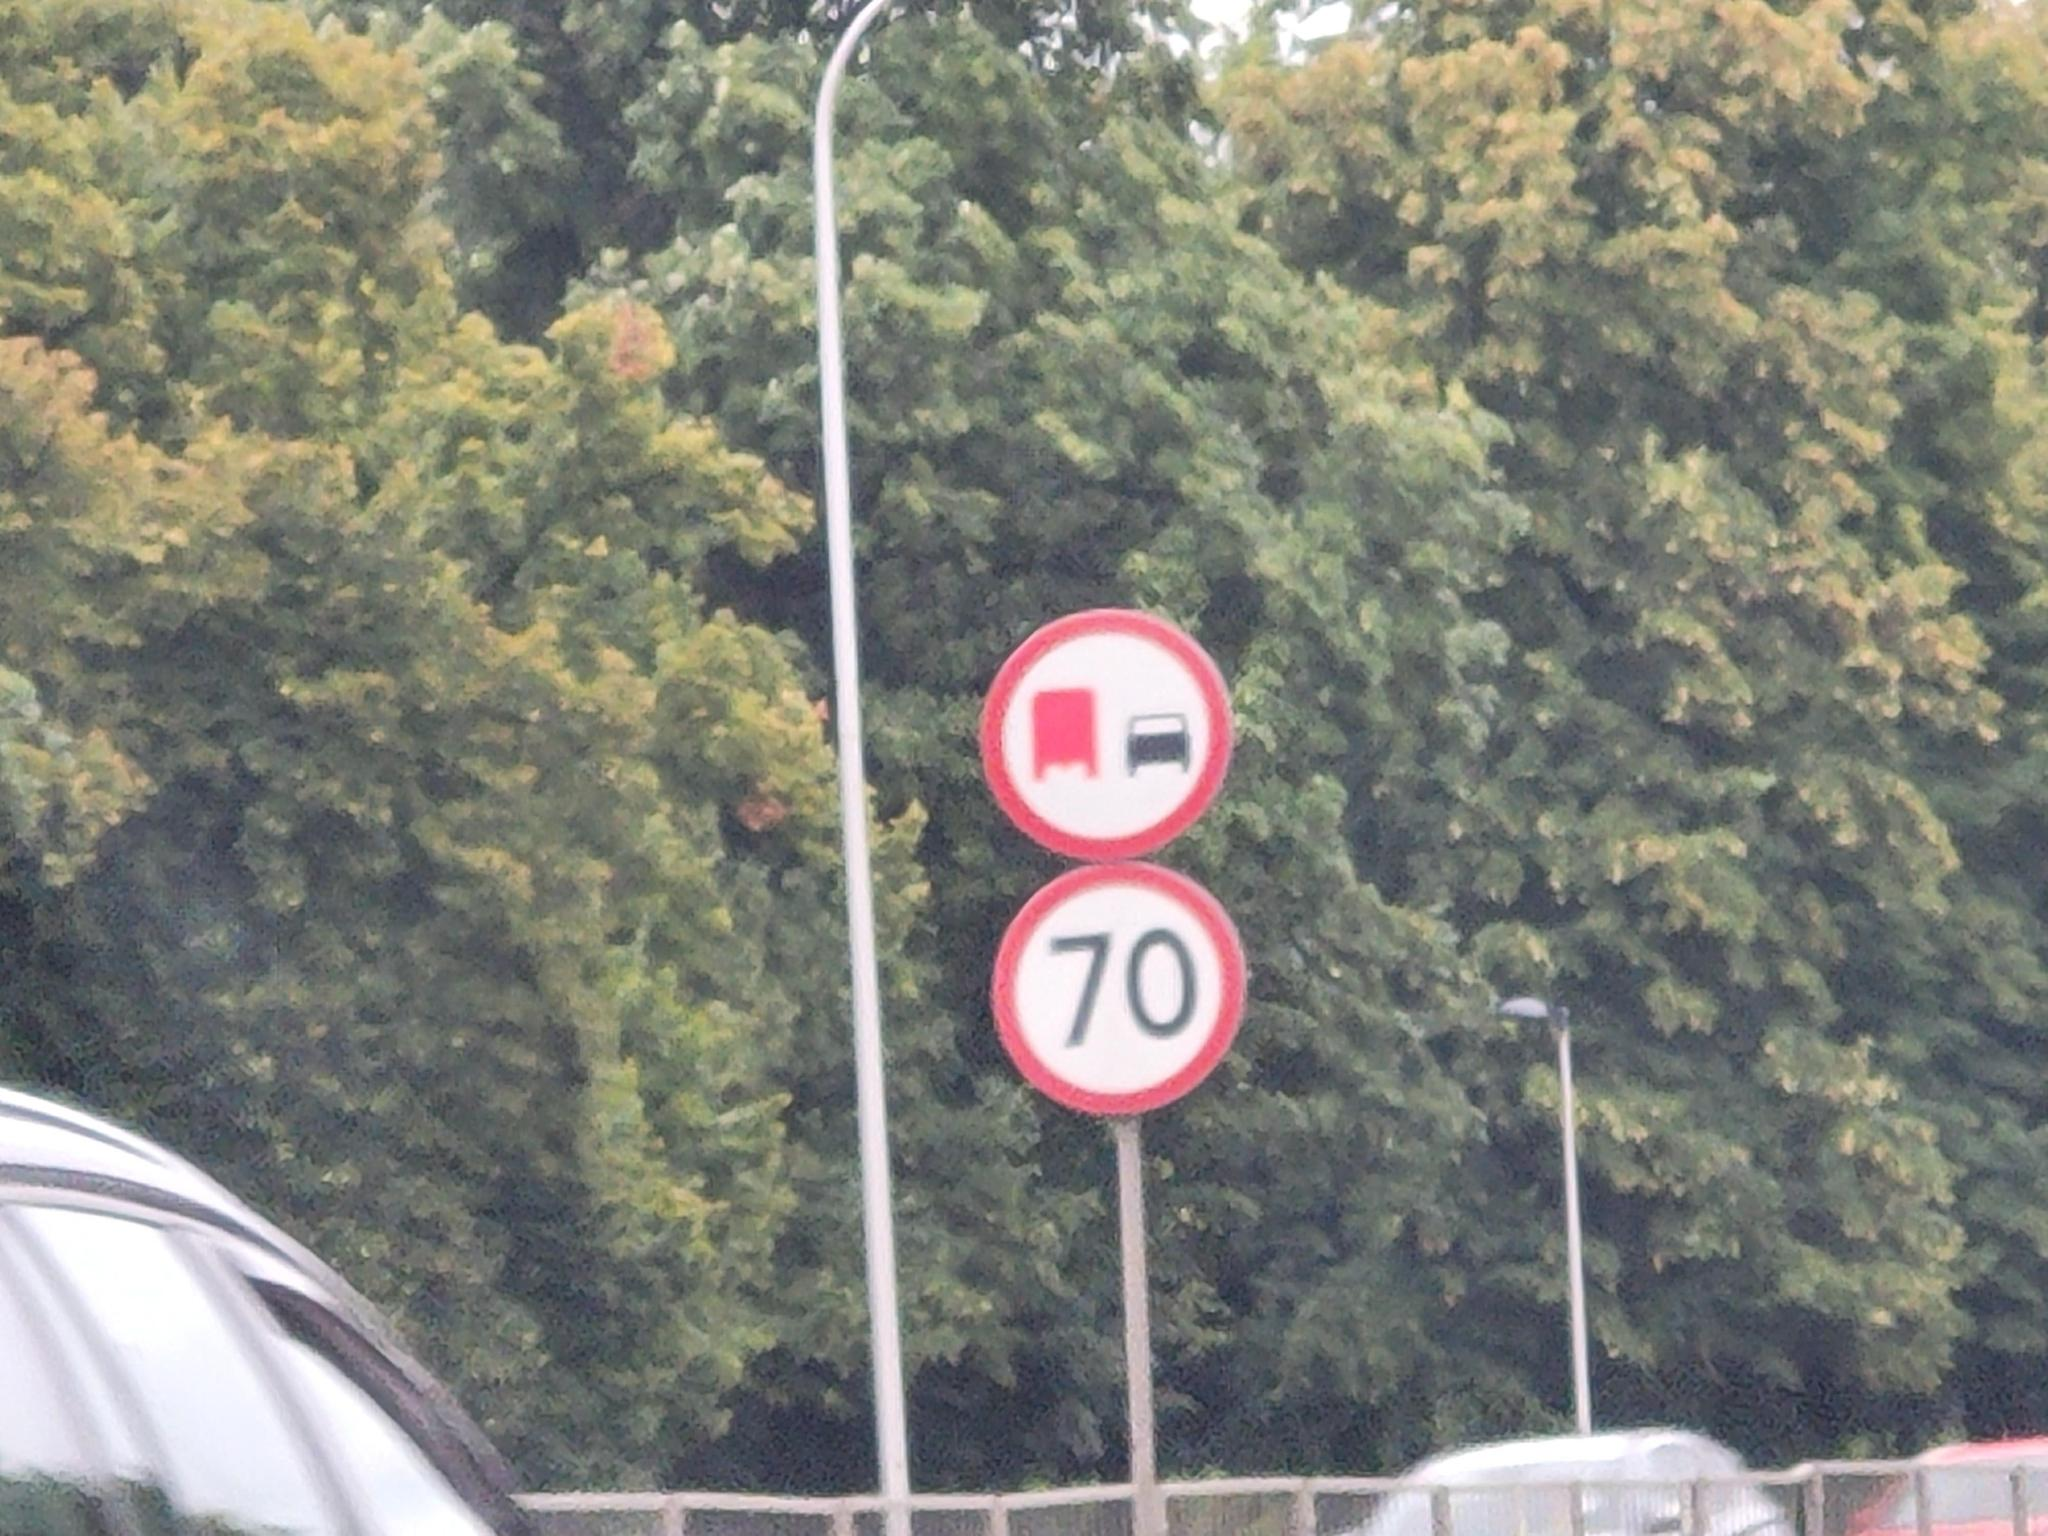prohibitory: (990, 863, 1251, 1120), (977, 607, 1234, 862)
